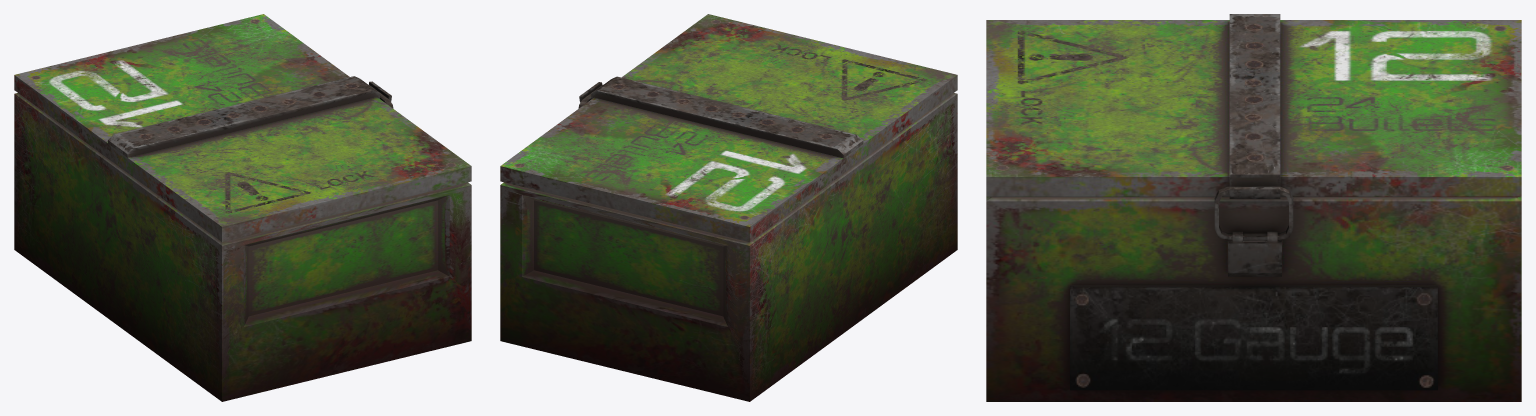
File: 12GaugeBox.FBX
The picture shows the model from 3 angles, left to right: view 1: azimuth 30°, elevation 25°; view 2: azimuth 150°, elevation 25°; view 3: azimuth 270°, elevation 25°; orthographic projection. The views are drawn at different scales.
Parts seen in each view (by area): view 1: 12GaugeBox; view 2: 12GaugeBox; view 3: 12GaugeBox.
Boxes of the visible parts, x1=… form: 12GaugeBox: x1=14, y1=14, x2=471, y2=401; 12GaugeBox: x1=500, y1=14, x2=957, y2=401; 12GaugeBox: x1=986, y1=14, x2=1521, y2=401.
Bounding box in the file's own units: 22.62 × 14.94 × 30.81.
Materials: 1 (1 with a texture image).
